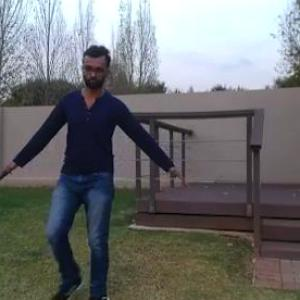land: (20, 60, 160, 299)
